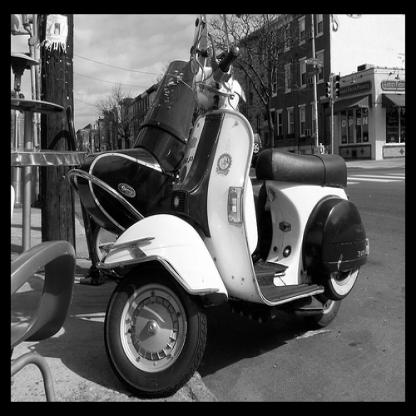motorbike: (94, 13, 369, 398)
